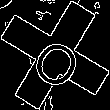O_NE: (23, 22, 87, 88)
